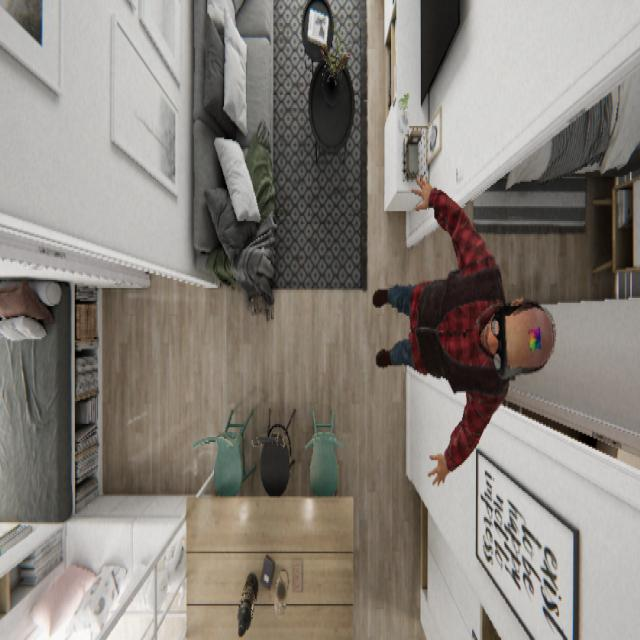Colored-Marker: (526, 322, 542, 353)
Human: (372, 172, 556, 488)
